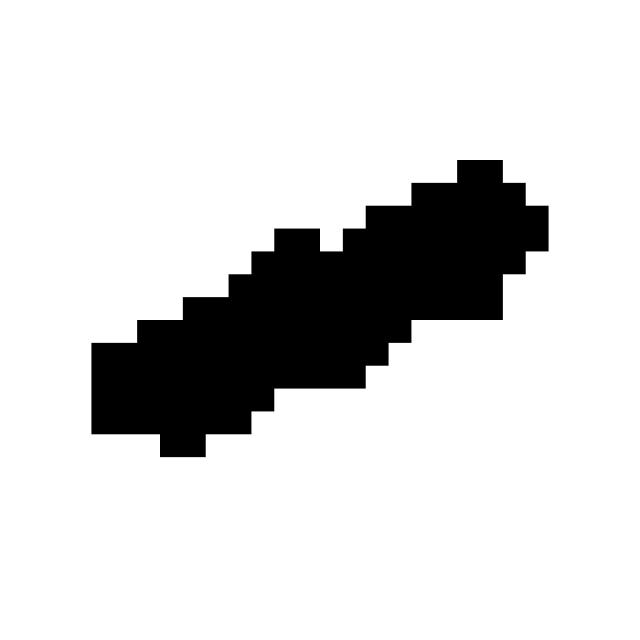0 -zero-: (80, 142, 559, 486)
